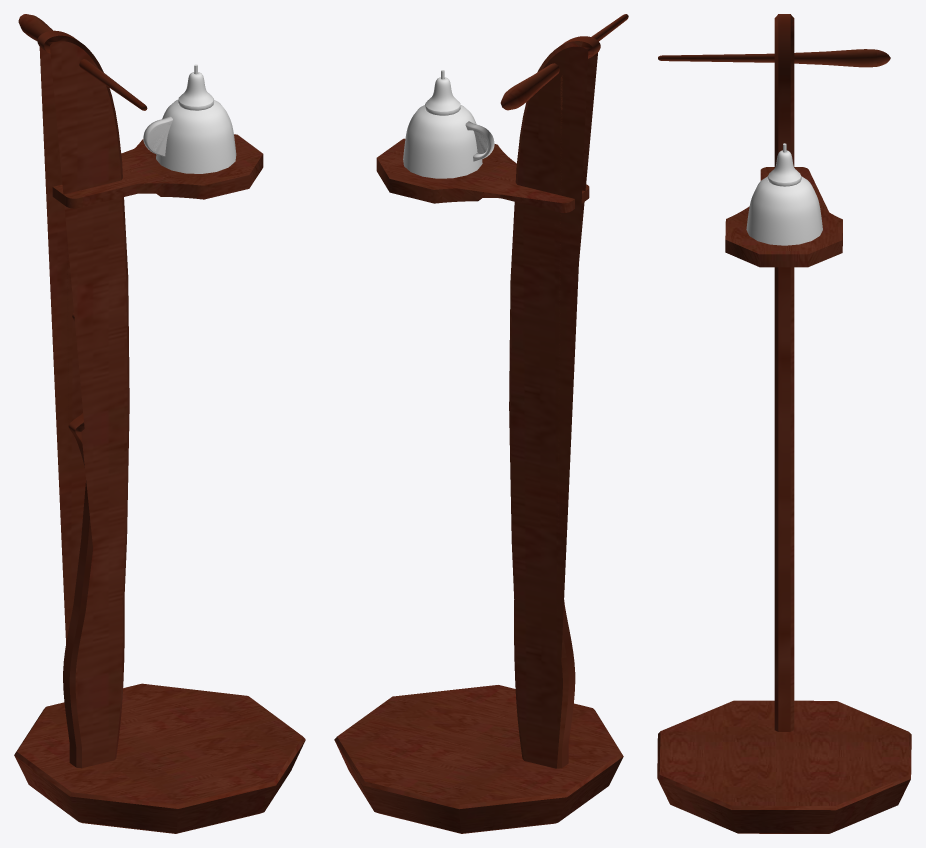
3 views of the same model, side by side, from view 1: azimuth 30°, elevation 25°; view 2: azimuth 150°, elevation 25°; view 3: azimuth 270°, elevation 25° (orthographic). The views are drawn at different scales.
Parts seen in each view (by area): view 1: 촛대 2; view 2: 촛대 2; view 3: 촛대 2.
Boxes of the visible parts, x1,y1,x2,y2 form: 촛대 2: [14, 14, 305, 833]; 촛대 2: [334, 14, 628, 833]; 촛대 2: [657, 14, 911, 833].
Size of the model in its own units: 12.33 by 38.43 by 12.27.
